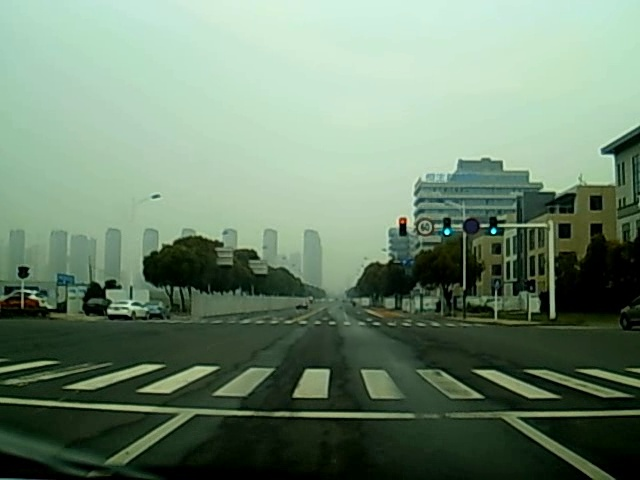Traffic_Light_go: (488, 216, 498, 238), (442, 218, 450, 243)
Traffic_Light_stop: (399, 217, 409, 239)
